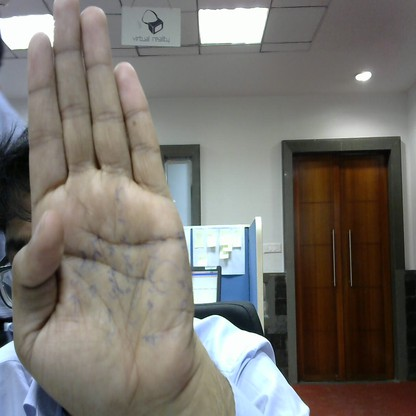b: (6, 5, 206, 407)
